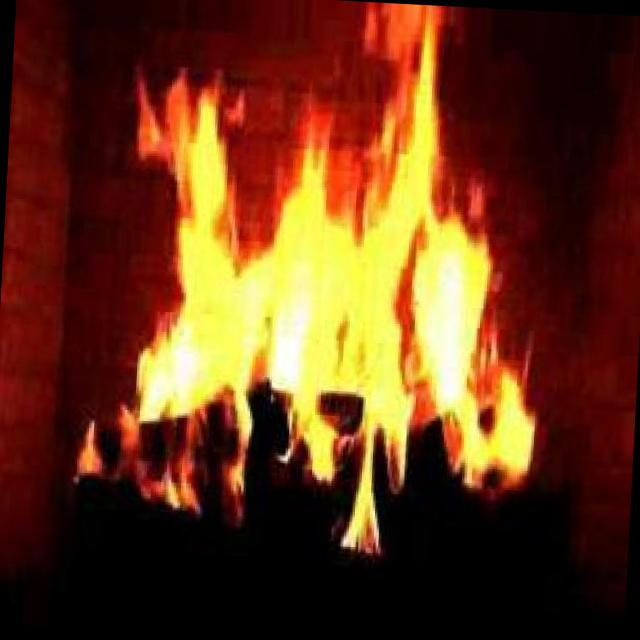Fire: (152, 28, 474, 439)
